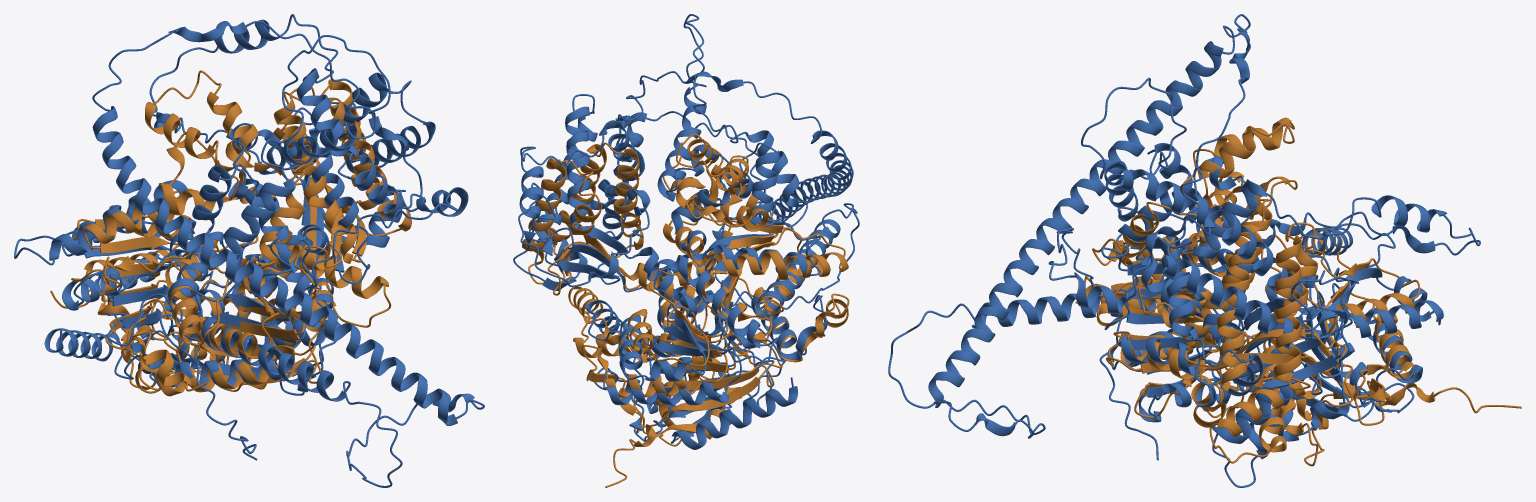
File: AF-A0A3S0HN58-F1-AF-A8MPP1-F1.glb
3 renders of one model, left to right at view 1: azimuth 30°, elevation 25°; view 2: azimuth 150°, elevation 25°; view 3: azimuth 270°, elevation 25°, orthographic. The views are drawn at different scales.
Size of the model in its own units: 72.09 by 86.8 by 121.
